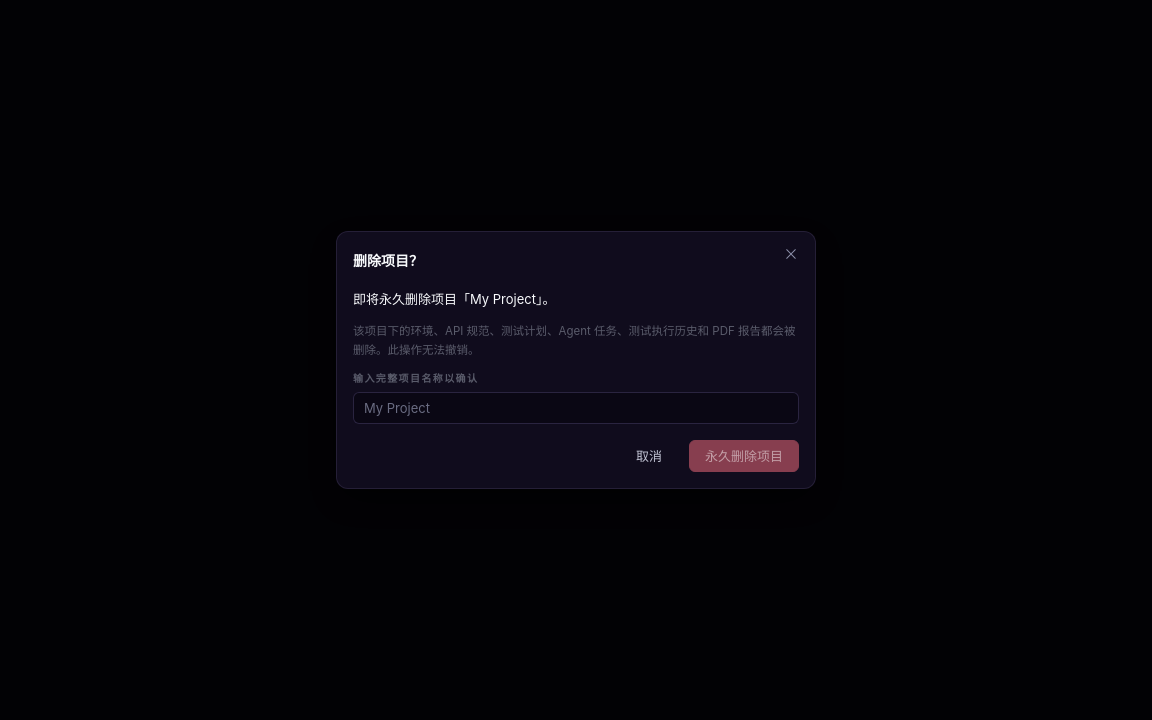
it: ProjectDeleteDialog › shows the project name and requires the exact name before enabling deletion
Check: the button "永久删除项目" is disabled, box [689,440,799,472]
In the field labelled "输入完整项目名称以确认": [576, 408] box [364,393,788,423], type "wrong name"
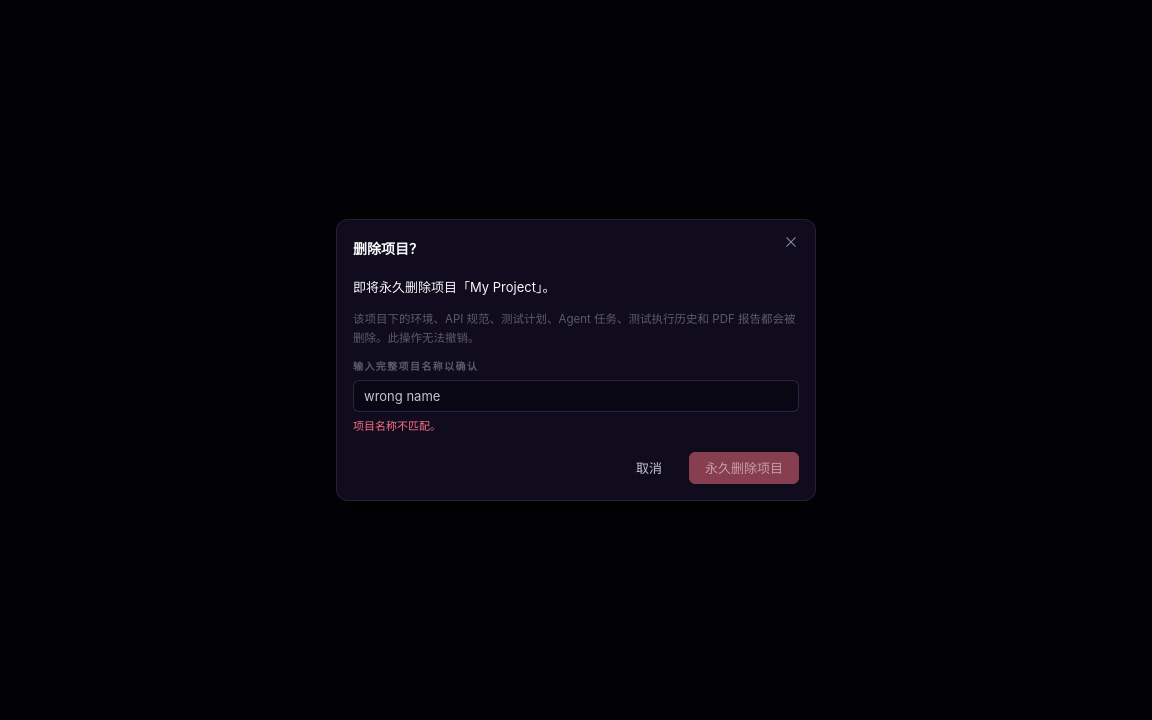
Check: the button "永久删除项目" is disabled, box [689,452,799,484]
Check: the text "项目名称不匹配" is shown, box [353,419,441,433]
Replace the text in the field labelled "输入完整项目名称以确认 项目名称不匹配。" with "My Project": [576, 396] box [364,381,788,411]
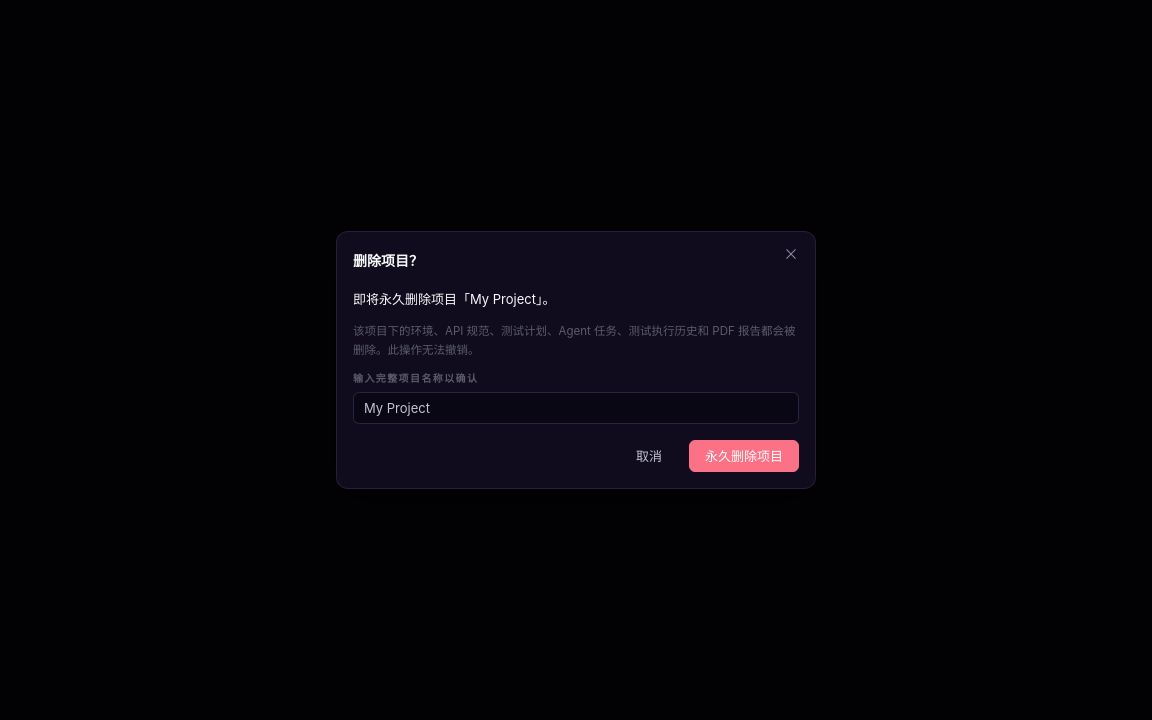
Check: the button "永久删除项目" is enabled, box [689,440,799,472]
